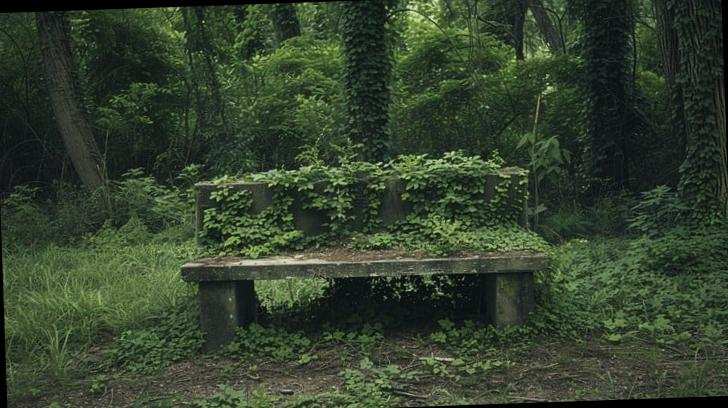overgrown grass: (2, 241, 194, 395), (552, 227, 728, 351), (355, 151, 546, 255), (201, 184, 340, 257), (302, 168, 382, 232)
